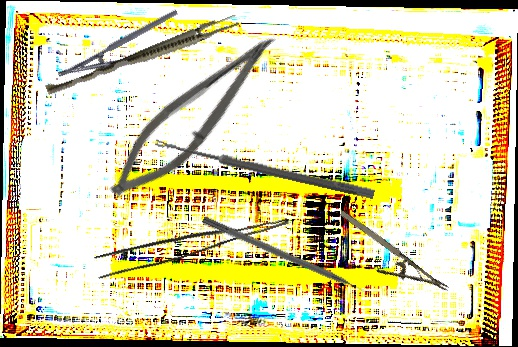Micro Scissor: (96, 12, 289, 217)
Needle Holder: (326, 206, 450, 314), (56, 9, 188, 94)
Pusher: (201, 215, 375, 301)
Surgical Spoon: (153, 137, 376, 200)
Tissue Forceps: (45, 9, 240, 103), (92, 196, 290, 285)
